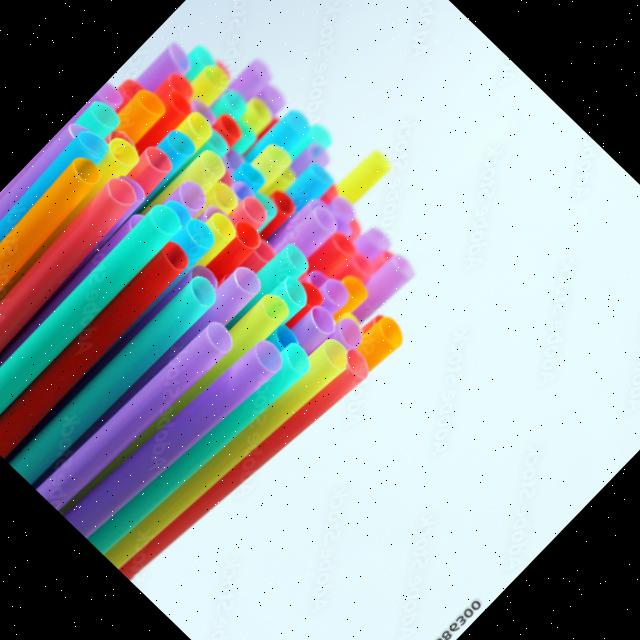plastic: (69, 320, 296, 553)
